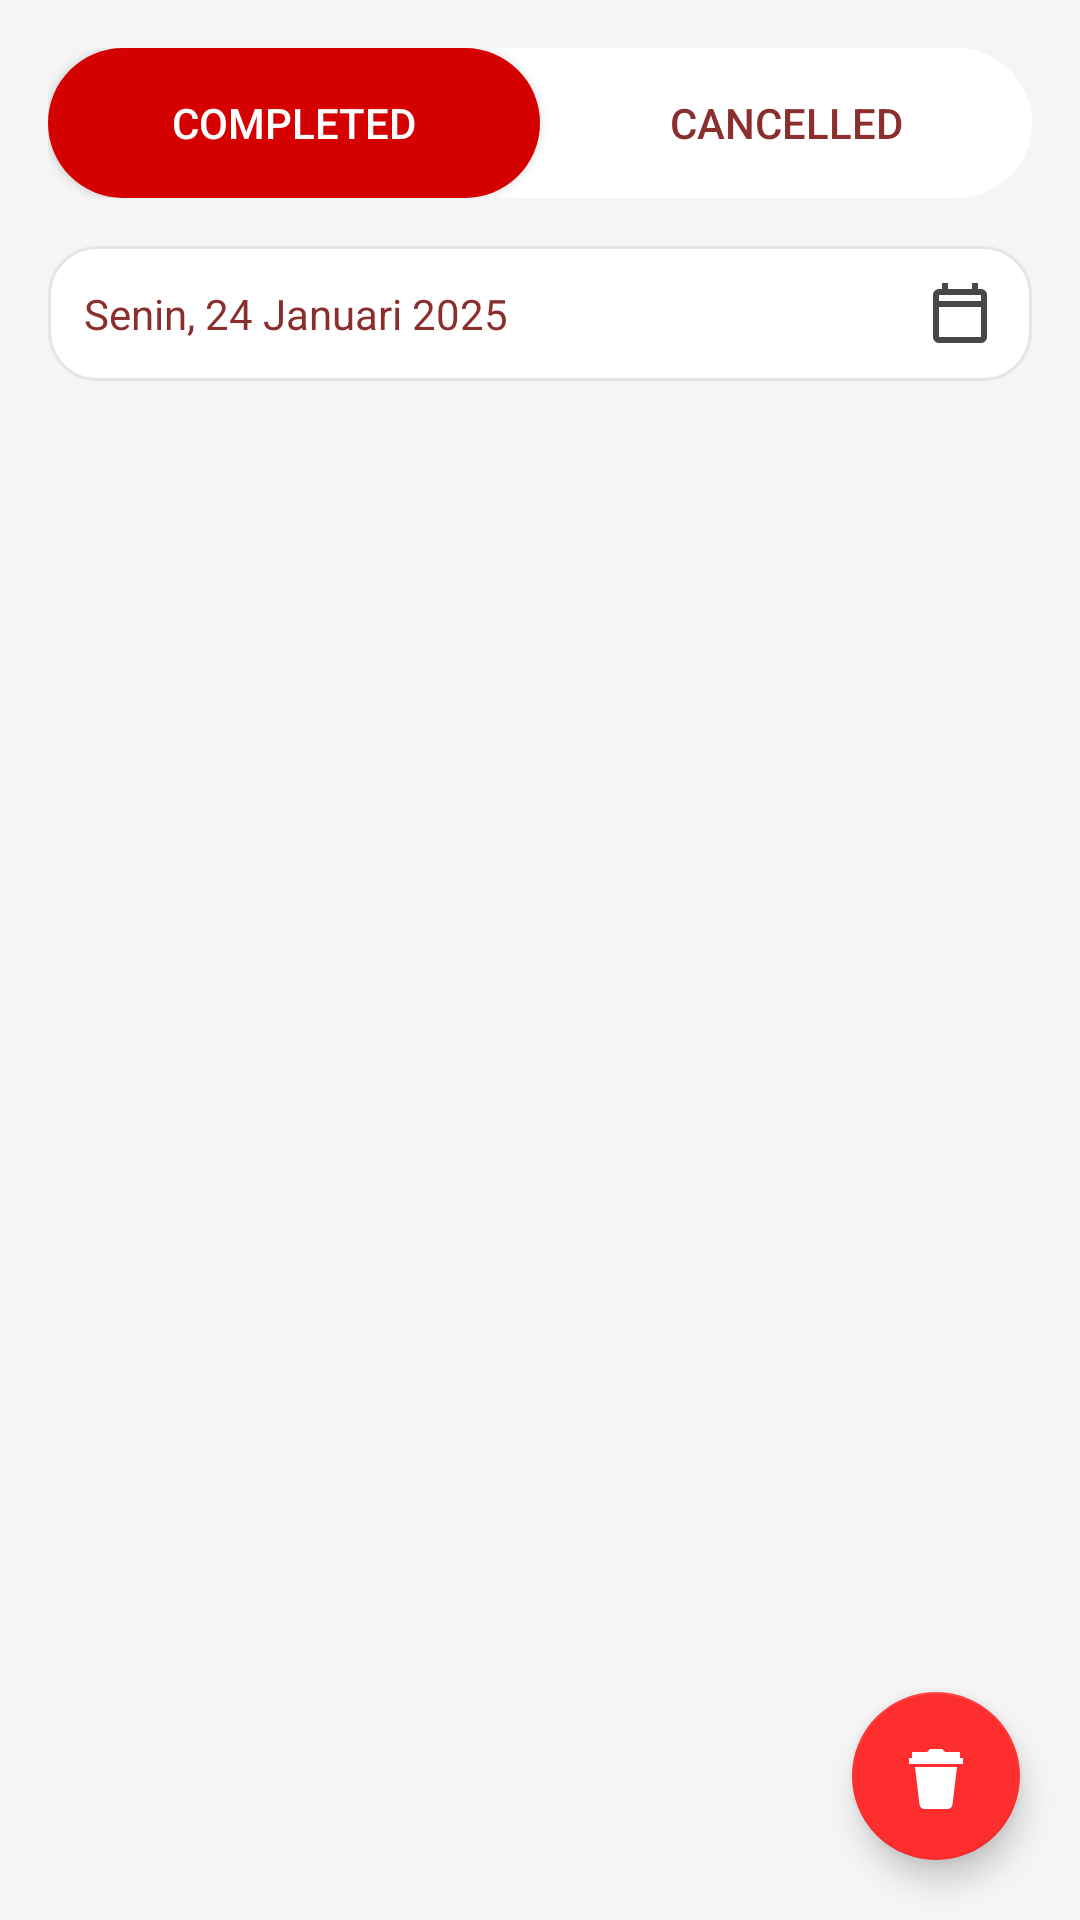

Icons on this 1080px×1920px Android screen, each with the point to tap as (x,y):
calendar: (960,313)
delete: (936,1776)
